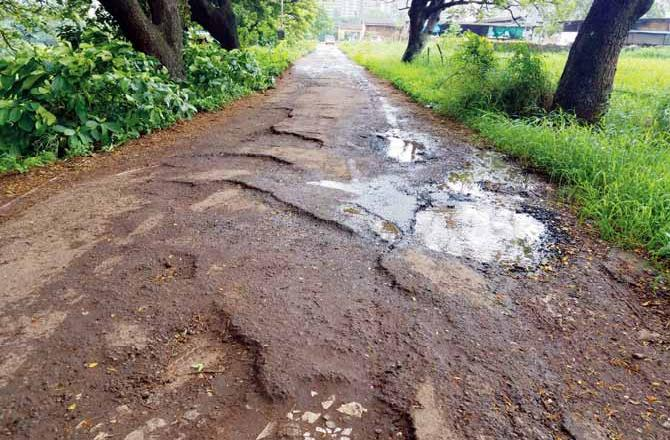potholeGroup: (99, 138, 432, 433), (340, 116, 568, 287)
